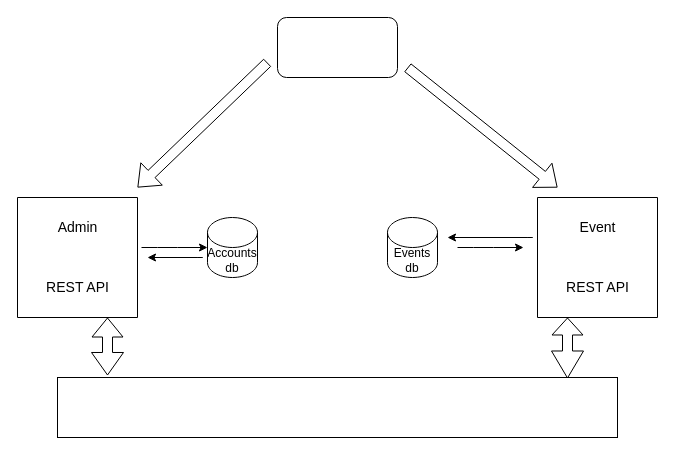
The diagram is 675 pixels wide and 455 high, and some of its shapes have lost their labels. The centre of each missing label's shape, as x and y in pixels:
"Client" goes at point 337,47.
"RabbitMQ" goes at point 337,407.
